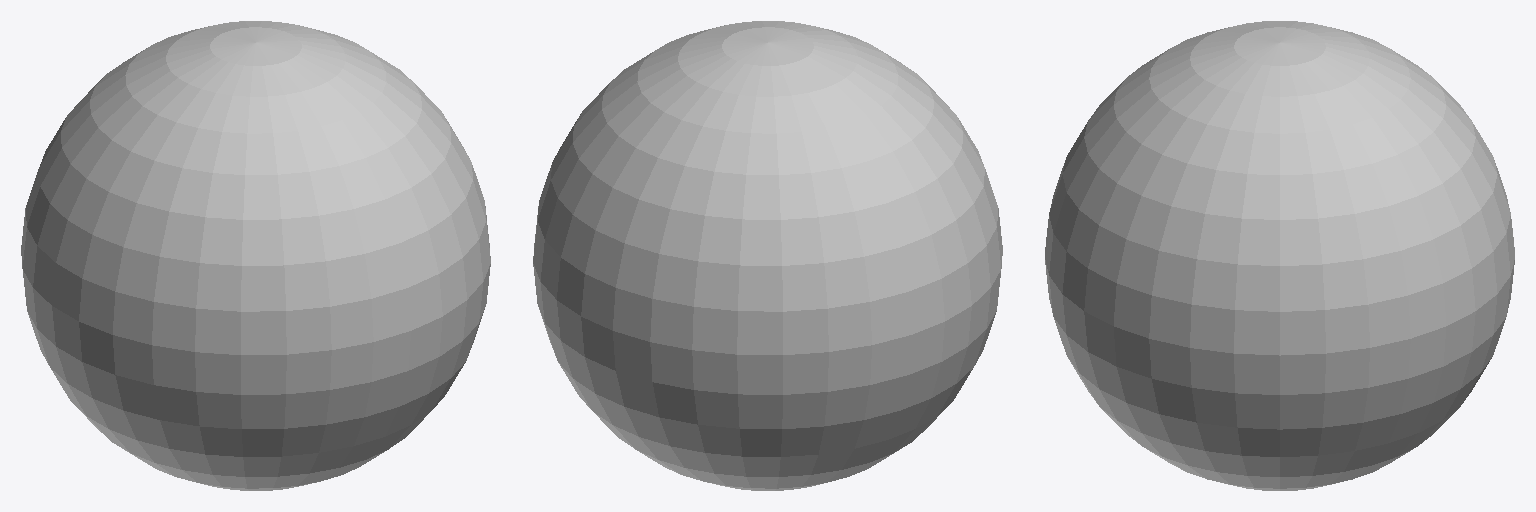
Rendered from unitHead.obj.
The picture shows the model from 3 angles: view 1: azimuth 30°, elevation 25°; view 2: azimuth 150°, elevation 25°; view 3: azimuth 270°, elevation 25°; orthographic projection.
Parts seen in each view (by area): view 1: 球; view 2: 球; view 3: 球.
Part boxes in pixels (x1,y1,x2,y2): 球: (21, 21, 490, 490); 球: (533, 21, 1002, 490); 球: (1045, 21, 1514, 490).
Size of the model in its own units: 0.6 by 0.6 by 0.6.